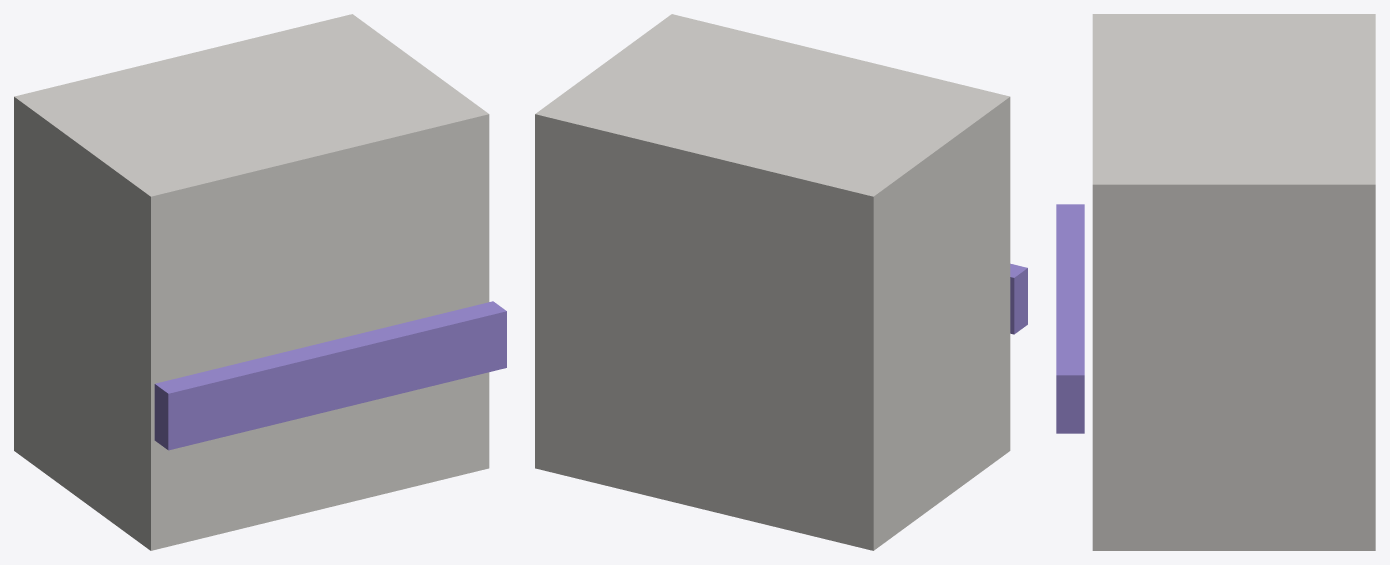
Rendered from 样例盒.glb.
The picture shows the model from 3 angles, left to right: view 1: azimuth 30°, elevation 25°; view 2: azimuth 150°, elevation 25°; view 3: azimuth 270°, elevation 25°; orthographic projection. The views are drawn at different scales.
Parts seen in each view (by area): view 1: 样例盒; view 2: 样例盒; view 3: 样例盒.
Boxes of the visible parts, x1,y1,x2,y2 form: 样例盒: [14, 14, 506, 550]; 样例盒: [535, 14, 1027, 550]; 样例盒: [1056, 14, 1375, 550].
Bounding box in the file's own units: 1 × 1 × 0.79.
